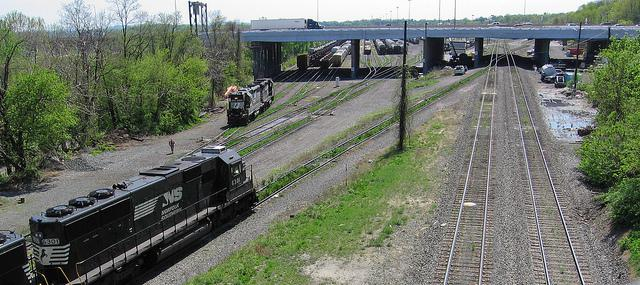Train: (0, 143, 258, 285), (227, 78, 276, 128), (297, 39, 349, 70), (333, 43, 352, 69), (383, 39, 403, 55), (321, 51, 337, 70), (372, 40, 388, 57), (394, 39, 410, 54), (365, 39, 373, 55), (444, 44, 450, 53)
